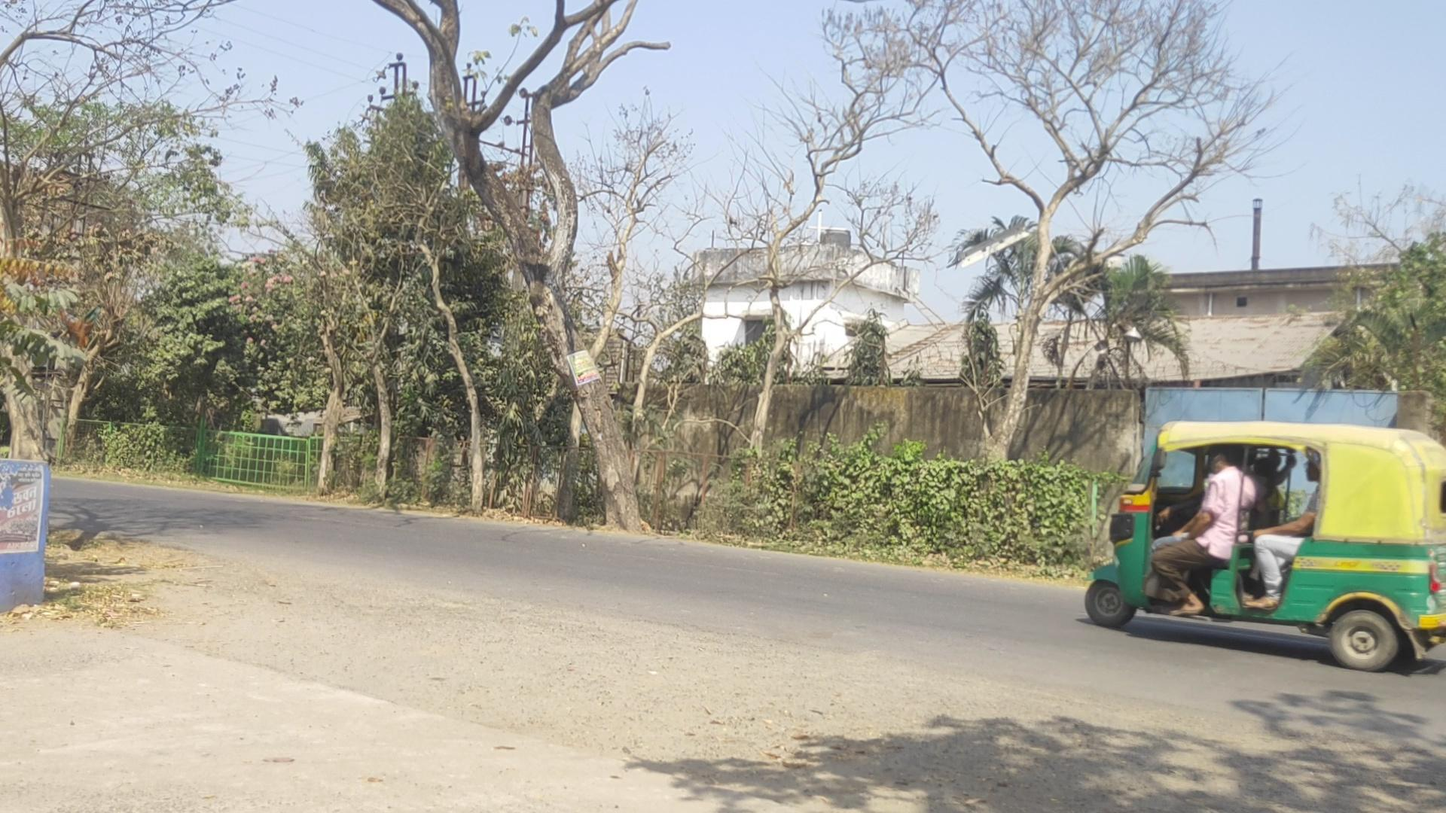Auto: (1084, 420, 1446, 672)
